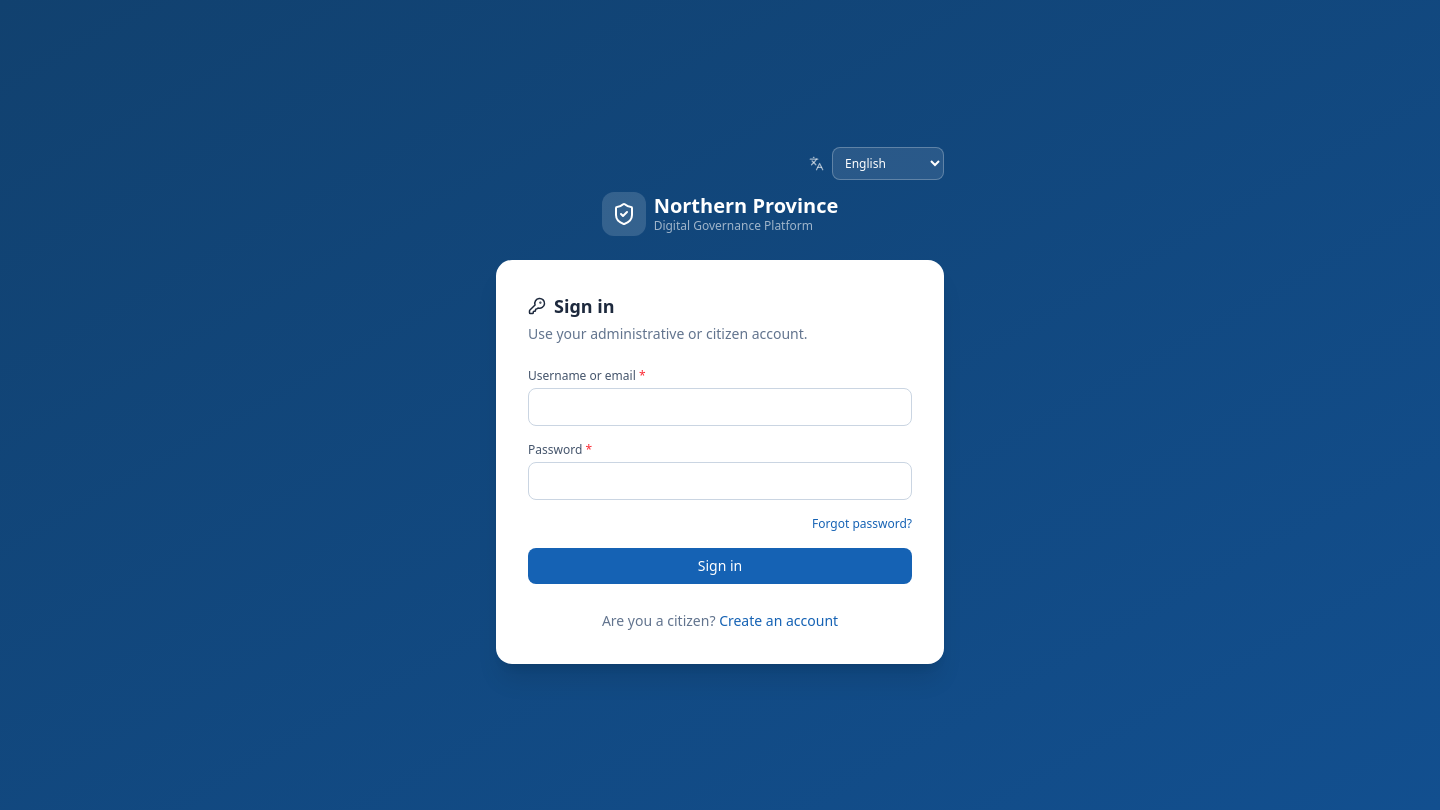
it: Login › allows returning to the credentials step from 2FA
Step 1. Type "citizen" into the field labelled "Username or email *" → {"x": 720, "y": 406}, box [528,388,912,426]
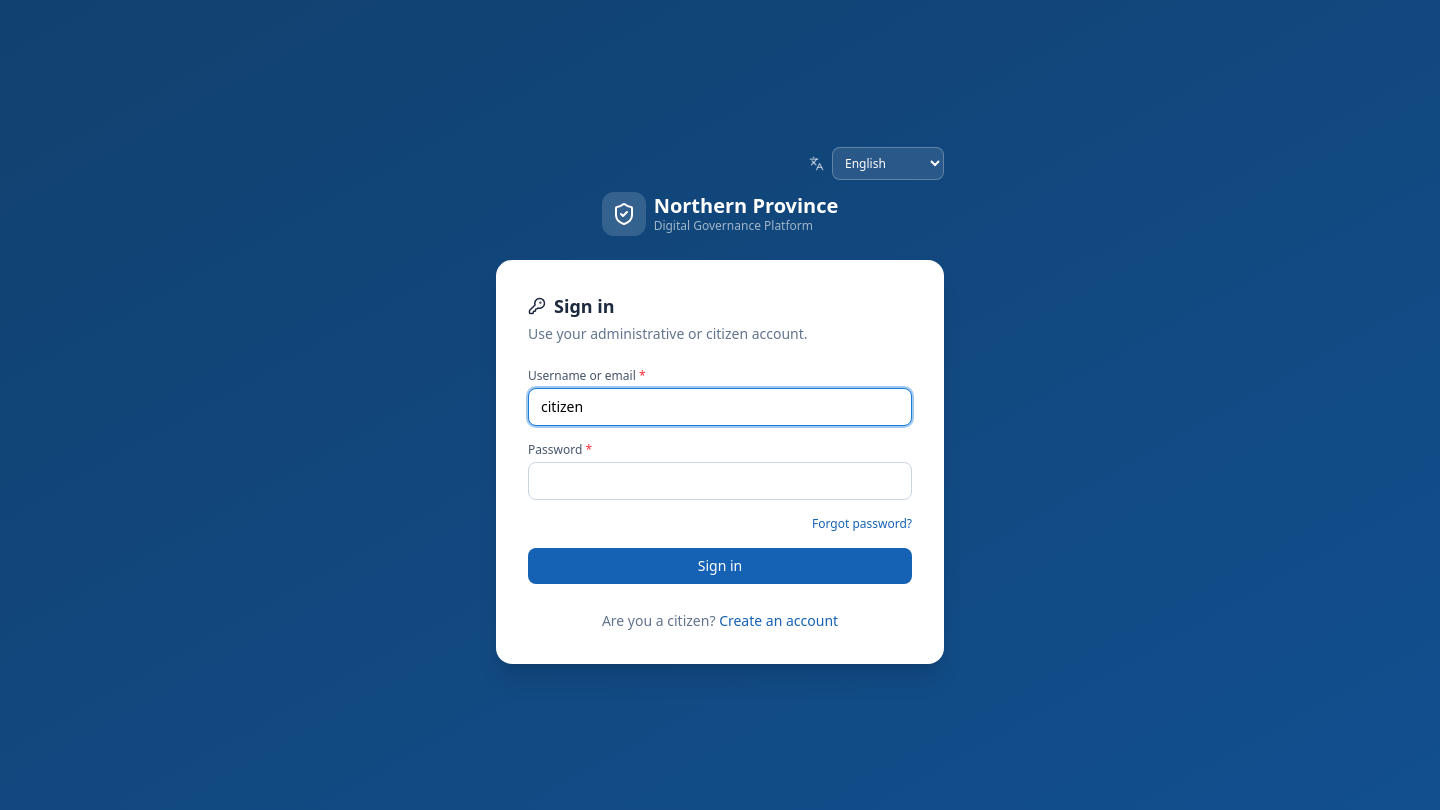
Step 2. Type "Citizen@123" into the password field labelled "Password *" → {"x": 720, "y": 480}, box [528,462,912,500]
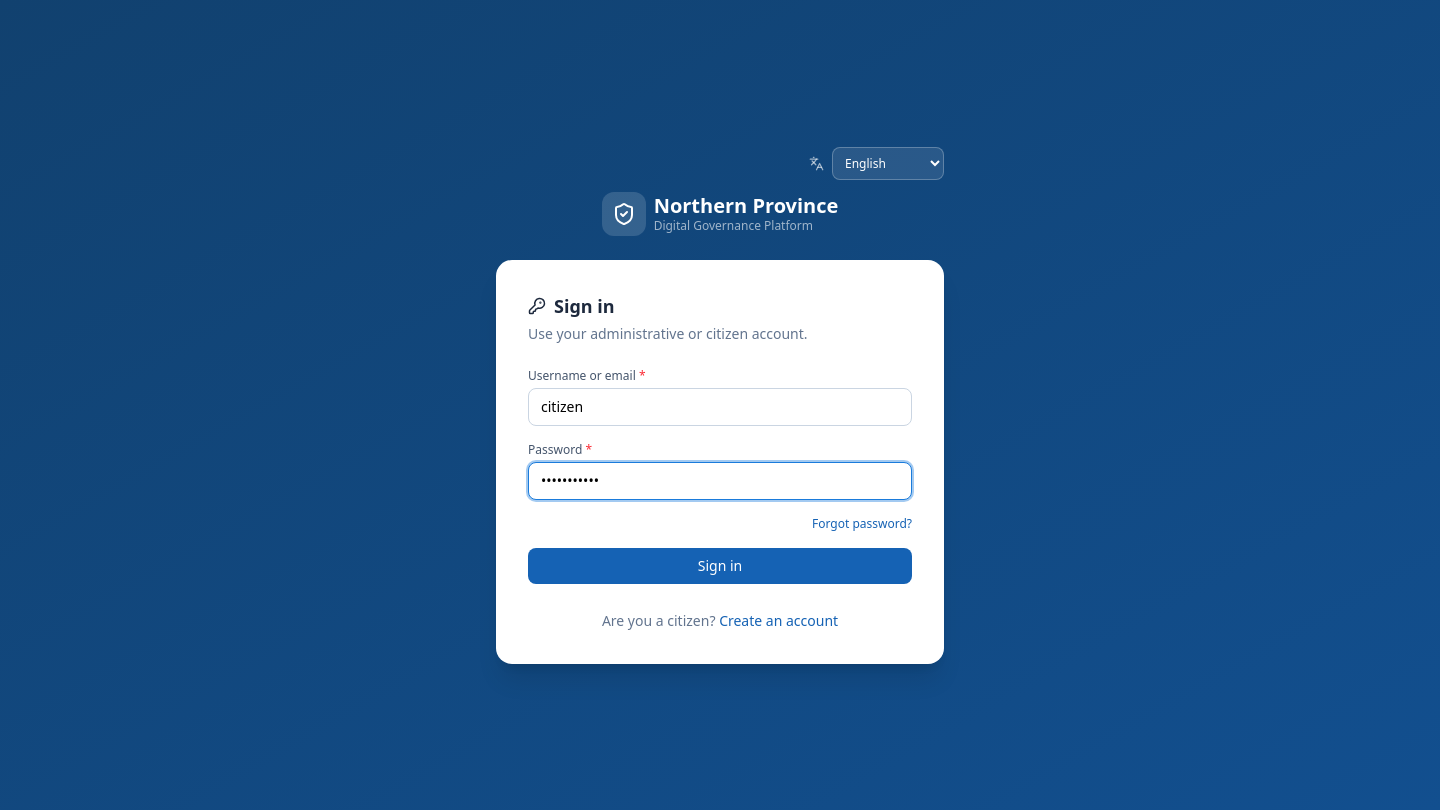
Step 3. Click the button "Sign in" → {"x": 720, "y": 566}, box [528,548,912,584]
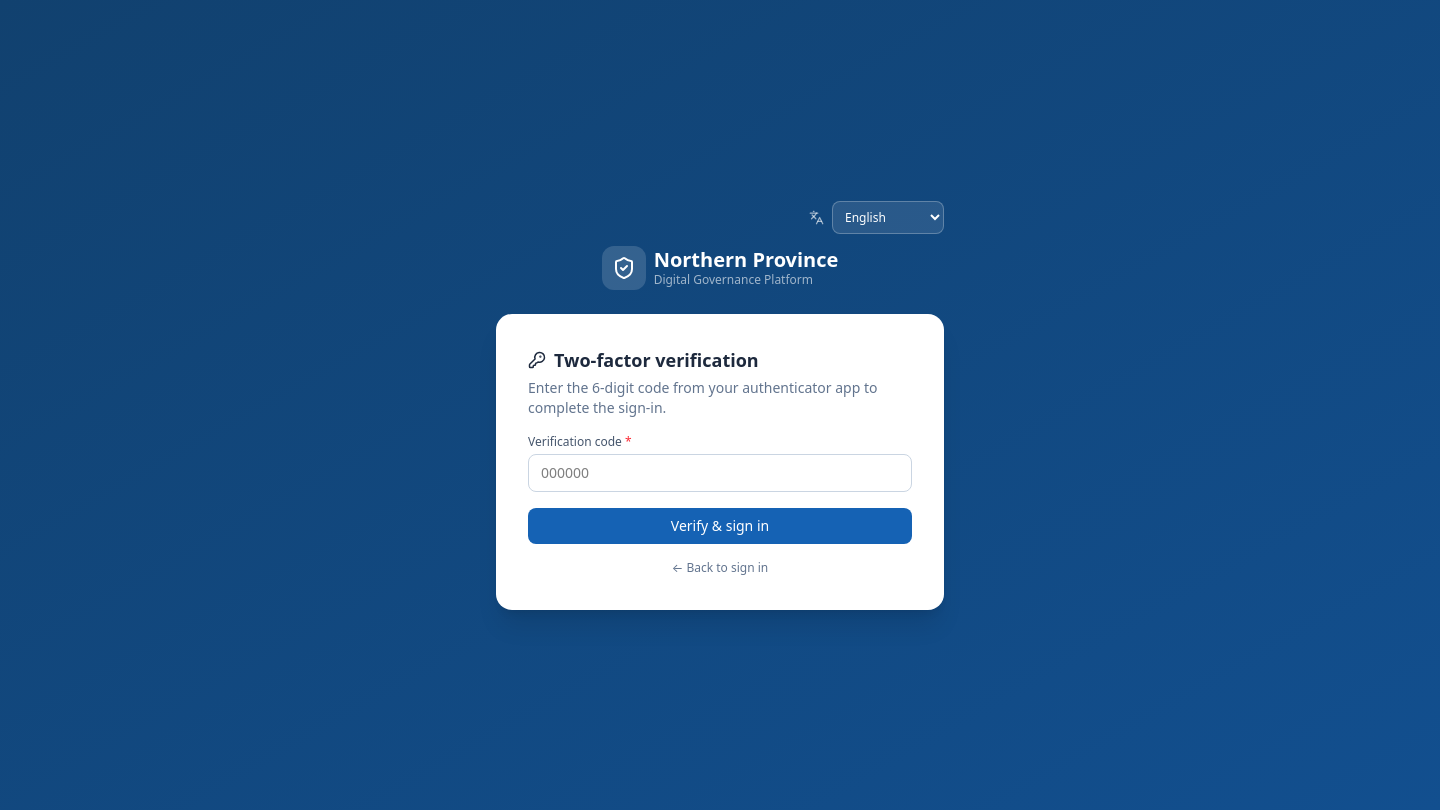
Result: the heading "Two-factor verification" is shown at [554,346,759,374]
Step 4. Click the button "← Back to sign in" → {"x": 720, "y": 568}, box [528,560,912,576]
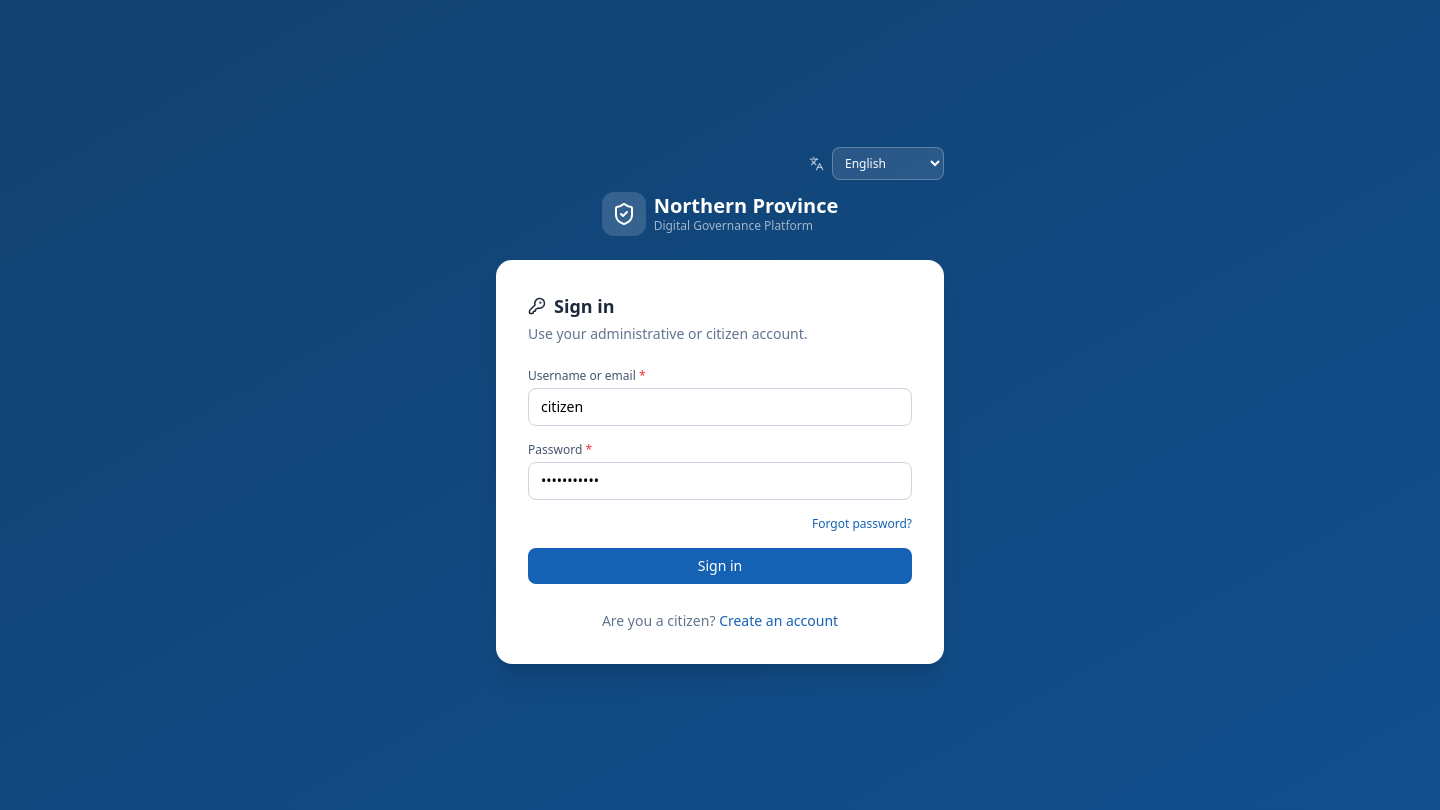
Result: the heading "Sign in" is shown at [554,292,615,320]
Result: the heading "Two-factor verification" is gone
